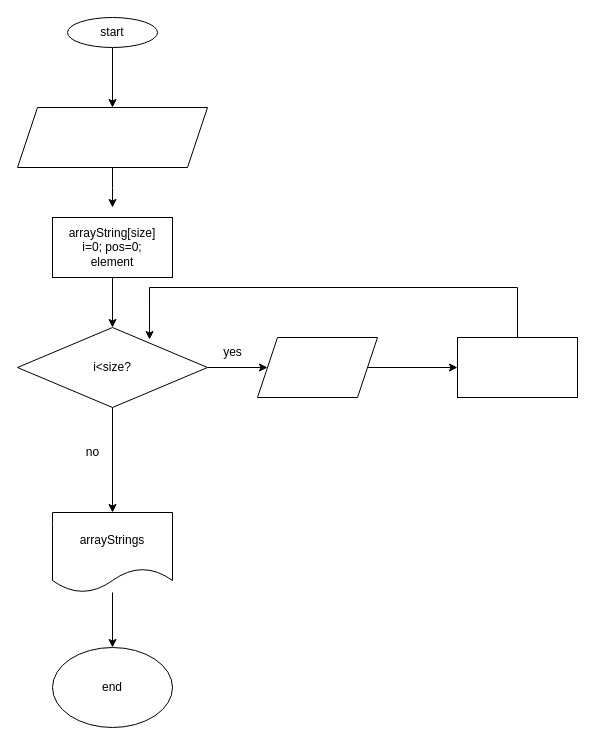
This 595x745 diagram has some shape labels left out. The shapes that lost their labels are listed below. From the top down, each one's centre as x and y in pixels, then its label:
point 112,137: size
point 317,367: element
point 517,367: arrayStrings[pos]= element; i++
